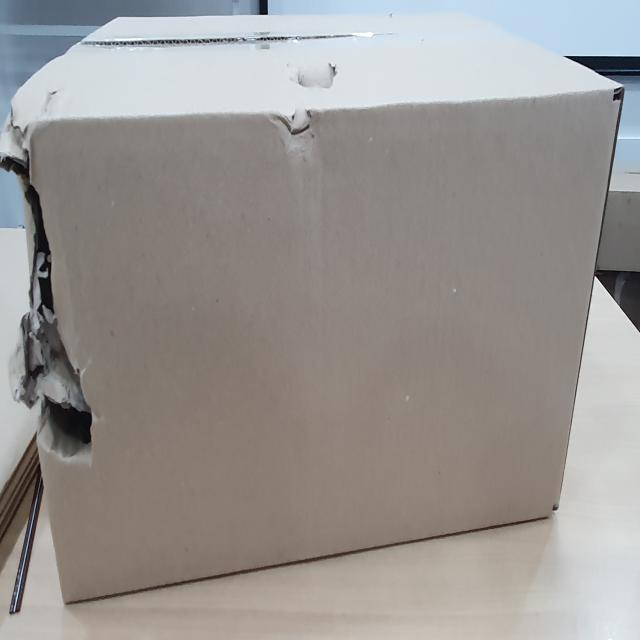hole: (1, 102, 101, 467), (262, 54, 356, 139)
